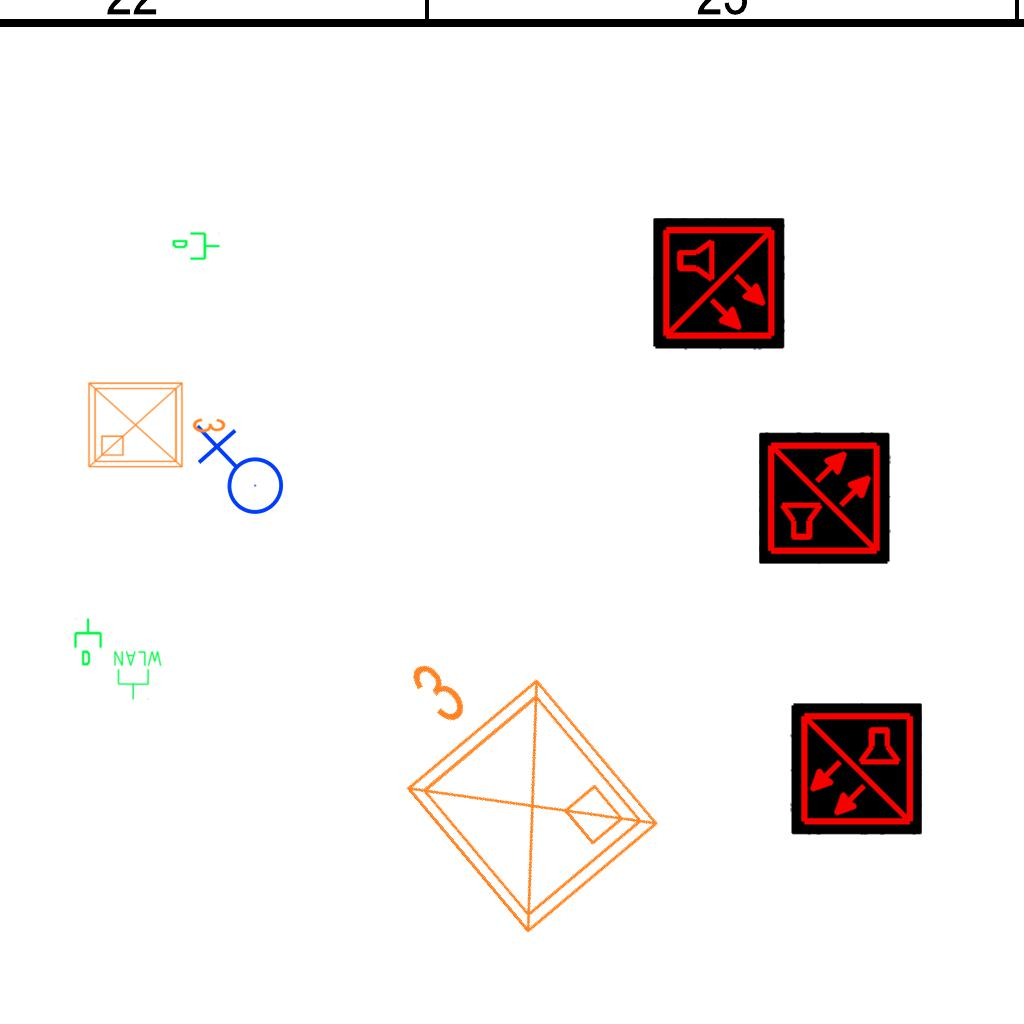Datenanschluss_einfach: (72, 617, 106, 667), (171, 230, 221, 264)
Einbaudownlights_LED_Konferenzraeume: (326, 595, 680, 959), (81, 371, 231, 475)
Elektroanschluss_allgemein_230V_Geraeteanschlussdose_230V: (775, 698, 912, 836), (191, 424, 285, 523)
OKW_Multisensormelder_(Kombination_optischer_Rauch-Kahlenmonoxid_Waerme-Melder): (653, 218, 785, 350), (759, 432, 891, 564), (790, 703, 922, 835)
WLAN: (112, 649, 164, 701)
